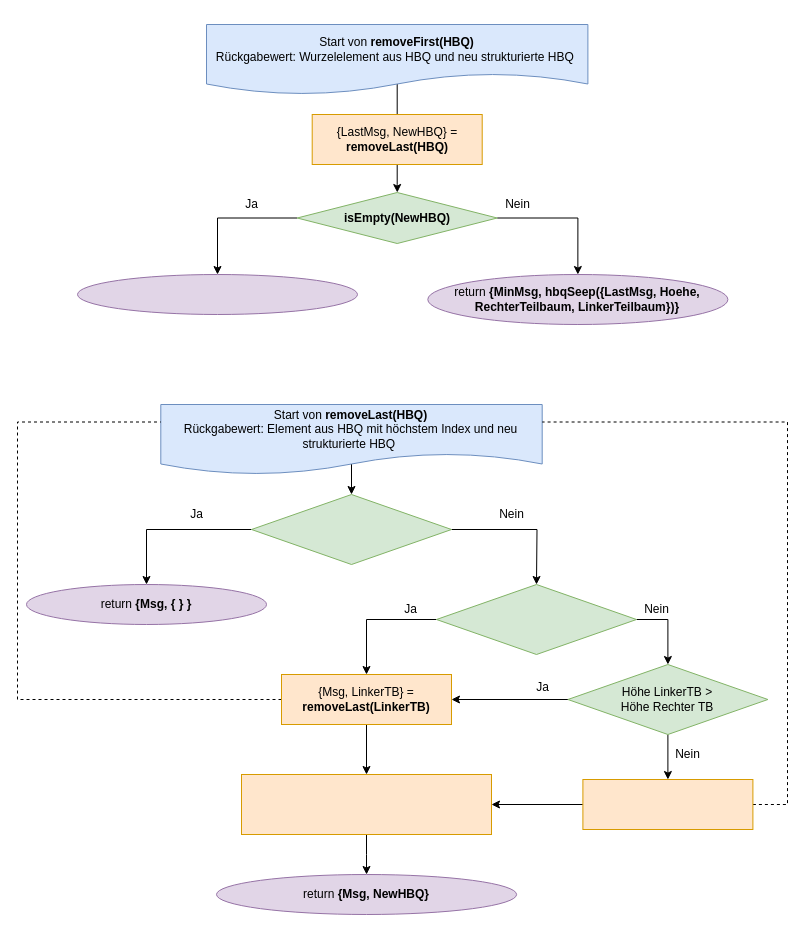
This 806x932 diagram has some shape labels left out. Each missing label, with the centre of its shape:
"isEmptyHBQ(LinkerTB) && isEmptyHBQ(RechterTB)" goes at (x=351, y=529).
"isEmptyHBQ(RechterTB)" goes at (x=536, y=619).
"NewHBQ = {Msg, max(Höhe<linkerTB>, Höhe<rechterTB> , LinkerTB, RechterTB}" goes at (x=366, y=804).
"return {LastMsg, { } }" goes at (x=217, y=294).
"{Msg, RechterTB} = removeLast(RechterTB)" goes at (x=667, y=804).
